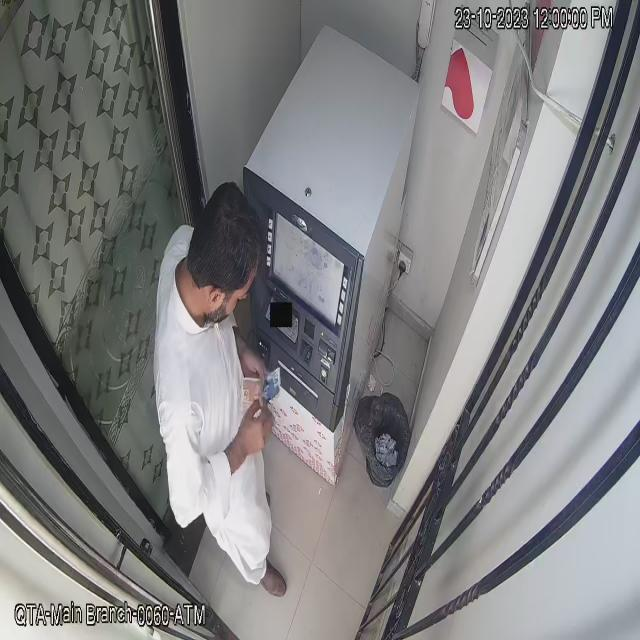note: (238, 359, 287, 413)
